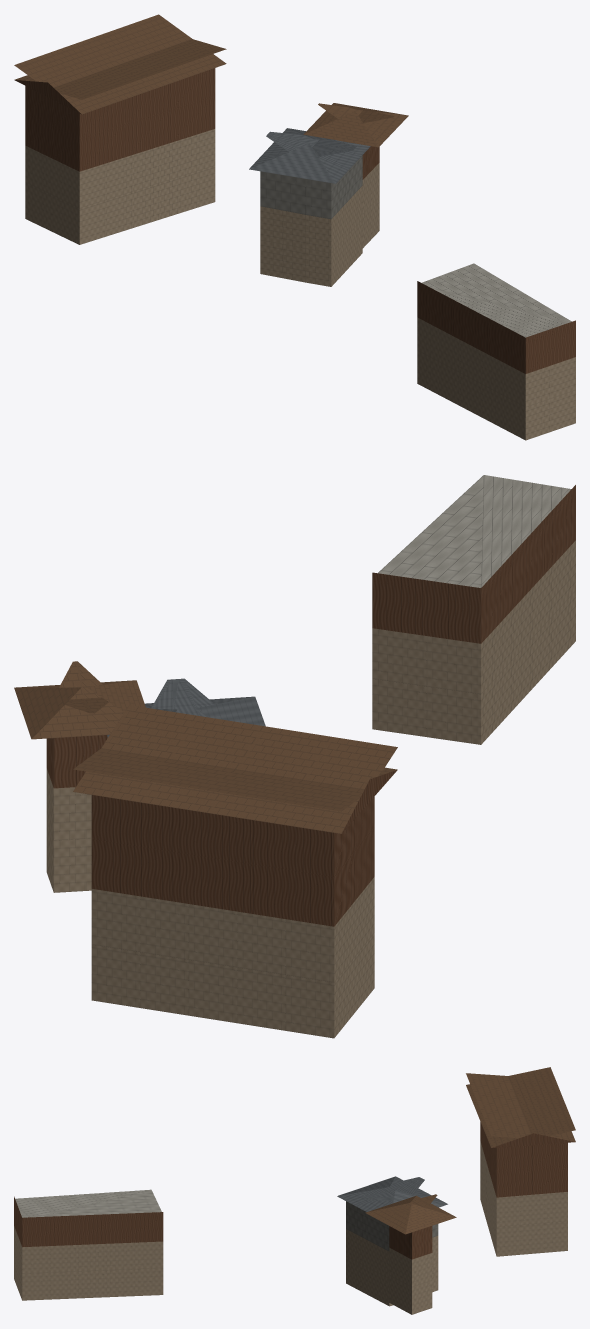
The model's file is bld_c33_45_238.gltf.
3 views of the same model, one above another, from view 1: azimuth 30°, elevation 25°; view 2: azimuth 150°, elevation 25°; view 3: azimuth 270°, elevation 25° (orthographic). The views are drawn at different scales.
Visible parts, largest first — view 1: bld_c33_45_238; view 2: bld_c33_45_238; view 3: bld_c33_45_238.
Boxes of the visible parts, <box> form: bld_c33_45_238: <box>14,14,575,440</box>; bld_c33_45_238: <box>14,475,575,1038</box>; bld_c33_45_238: <box>14,1067,575,1314</box>.
Size of the model in its own units: 21.65 by 11.9 by 42.85.
7 materials, 7 textured.
